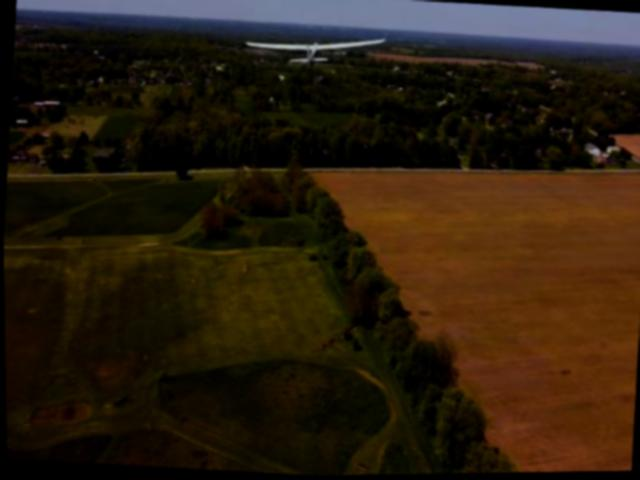uav: (235, 19, 390, 85)
